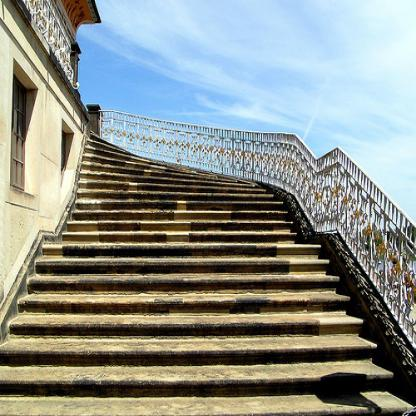stairs: (42, 246, 320, 416)
